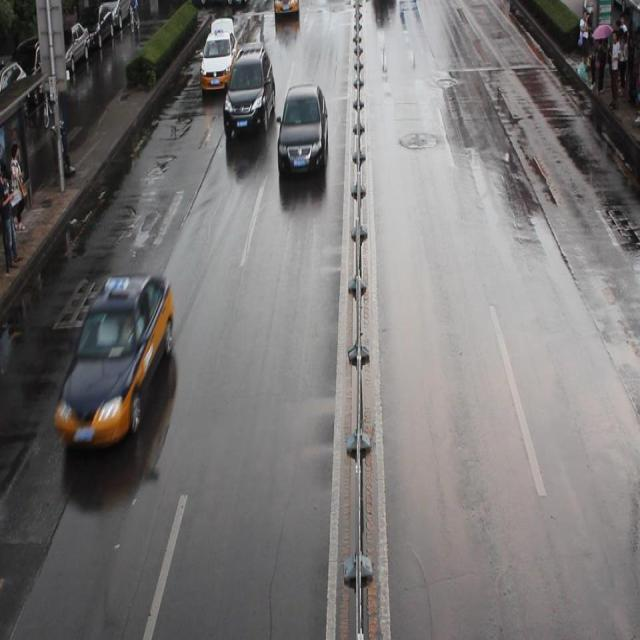car: (55, 273, 174, 449), (222, 46, 275, 136), (277, 84, 327, 176), (200, 29, 238, 92), (273, 1, 299, 18), (372, 1, 396, 7)
